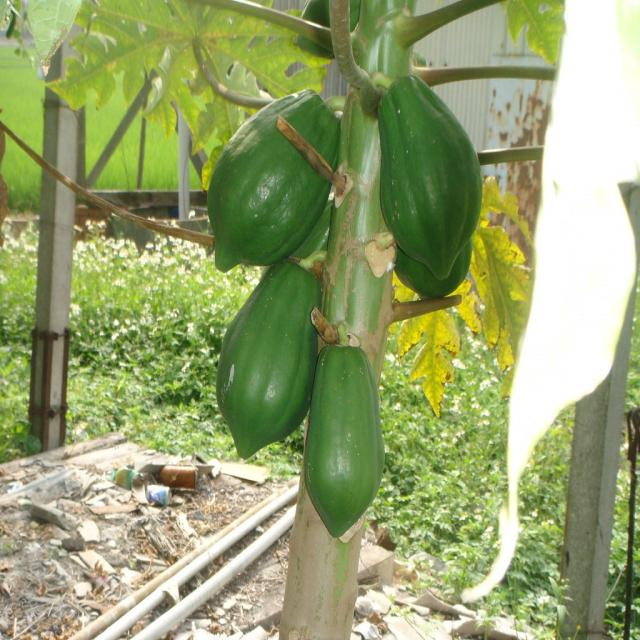Pepaya unrippen: (198, 89, 338, 278), (210, 265, 318, 472), (378, 67, 482, 273), (300, 355, 386, 537)
